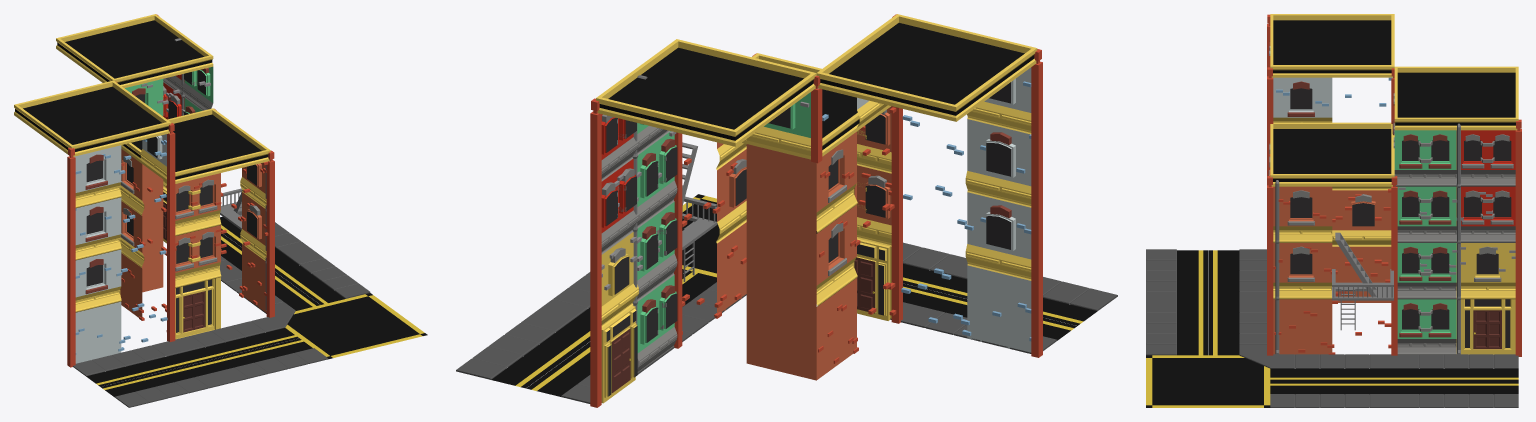
The model's file is city_building.glb.
3 views of the same model, side by side, from view 1: azimuth 30°, elevation 25°; view 2: azimuth 150°, elevation 25°; view 3: azimuth 270°, elevation 25° (orthographic). The views are drawn at different scales.
Parts seen in each view (by area): view 1: RoofTop.001, RoofTop.002, RoofTop, Plane.009, Plane.012, Plane.011, Plane.013, Plane.010, Plane.004, Plane.003, Plane.001, Cube.004 (+34 smaller); view 2: Plane.009, RoofTop.001, RoofTop.002, Plane.012, Plane.011, Plane.010, Cube.005, Cube.004, Footpath.008, Plane.006, Plane.007, Plane.008 (+36 smaller); view 3: RoofTop.002, RoofTop, RoofTop.001, Double Windows.004, Double Windows.003, Double Windows.002, Double Windows.001, Plane.006, Plane.005, Double Windows.005, Plane.002, Double Windows.006 (+35 smaller).
Part boxes in pixels (bbox=[...]): RoofTop.001: bbox=[14, 80, 171, 156]; RoofTop.002: bbox=[56, 14, 213, 88]; RoofTop: bbox=[121, 108, 270, 183]; Plane.009: bbox=[142, 164, 163, 292]; Plane.012: bbox=[75, 197, 121, 260]; Plane.011: bbox=[75, 249, 121, 312]; Plane.013: bbox=[74, 145, 121, 208]; Plane.010: bbox=[75, 301, 121, 363]; Plane.004: bbox=[175, 173, 221, 235]; Plane.003: bbox=[175, 277, 220, 339]; Plane.001: bbox=[175, 225, 221, 288]; Cube.004: bbox=[67, 147, 75, 367]; Plane.009: bbox=[746, 144, 816, 380]; RoofTop.001: bbox=[816, 14, 1037, 121]; RoofTop.002: bbox=[596, 39, 816, 146]; Plane.012: bbox=[965, 119, 1031, 207]; Plane.011: bbox=[965, 192, 1031, 280]; Plane.010: bbox=[967, 265, 1031, 352]; Cube.005: bbox=[590, 98, 601, 407]; Cube.004: bbox=[1031, 49, 1042, 357]; Footpath.008: bbox=[456, 311, 571, 379]; Plane.006: bbox=[816, 205, 857, 306]; Plane.007: bbox=[816, 131, 857, 233]; Plane.008: bbox=[816, 278, 856, 379]; RoofTop.002: bbox=[1394, 66, 1518, 130]; RoofTop: bbox=[1270, 122, 1394, 186]; RoofTop.001: bbox=[1270, 14, 1394, 77]; Double Windows.004: bbox=[1394, 130, 1456, 186]; Double Windows.003: bbox=[1397, 186, 1456, 242]; Double Windows.002: bbox=[1397, 243, 1456, 299]; Double Windows.001: bbox=[1397, 299, 1456, 354]; Plane.006: bbox=[1332, 190, 1391, 246]; Plane.005: bbox=[1273, 186, 1332, 242]; Double Windows.005: bbox=[1456, 130, 1515, 186]; Plane.002: bbox=[1273, 243, 1332, 299]; Double Windows.006: bbox=[1456, 186, 1515, 242].
Bounding box in the file's own units: 6.05 × 4.2 × 6.05.
